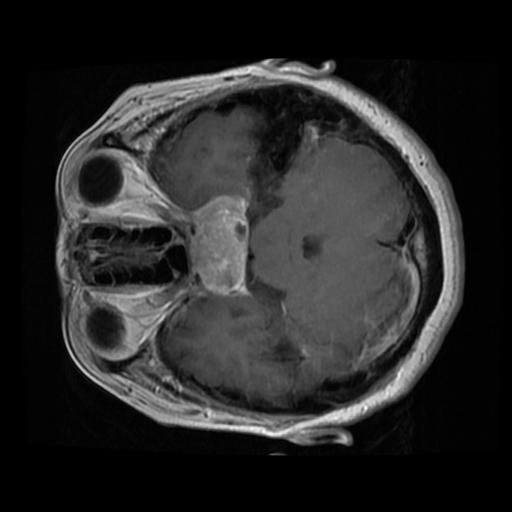pituitary tumour: (192, 197, 243, 294)
